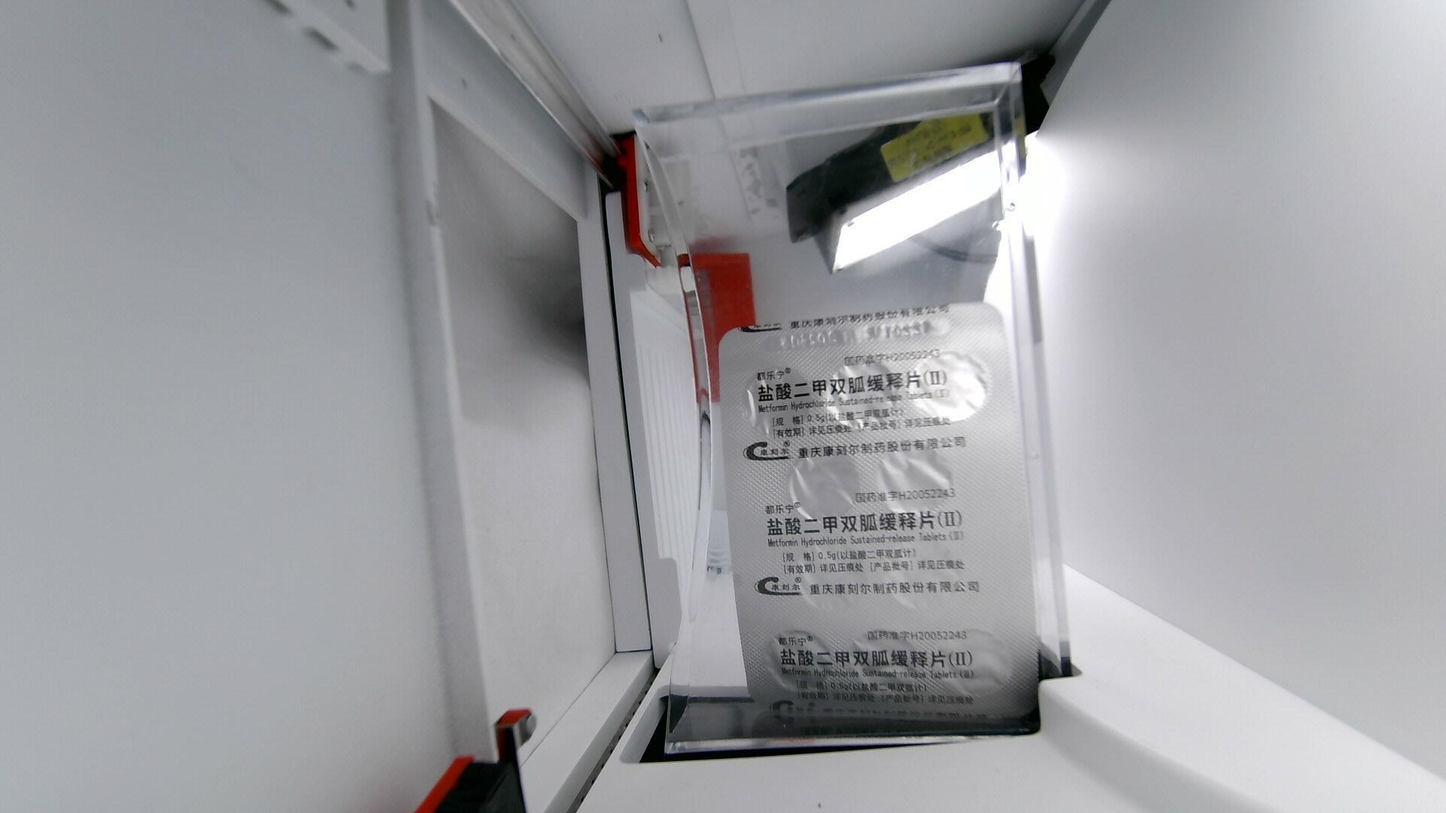Pill Back: (908, 350, 989, 422), (825, 357, 897, 425), (938, 626, 1011, 692), (765, 622, 835, 690), (743, 363, 812, 431), (854, 629, 922, 698), (877, 449, 955, 509), (788, 457, 862, 518), (886, 547, 962, 604), (792, 547, 867, 604)
